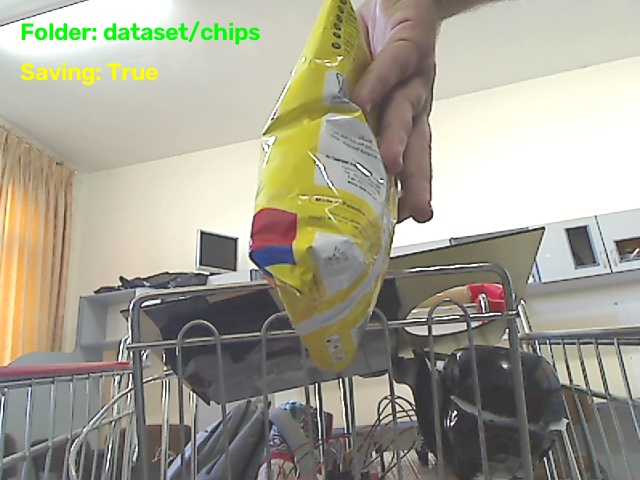chips: (250, 0, 396, 371)
